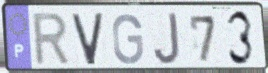3: (224, 9, 259, 67)
7: (188, 14, 219, 64)
G: (110, 12, 145, 66)
J: (152, 11, 182, 67)
R: (32, 11, 73, 69)
V: (70, 11, 106, 68)
